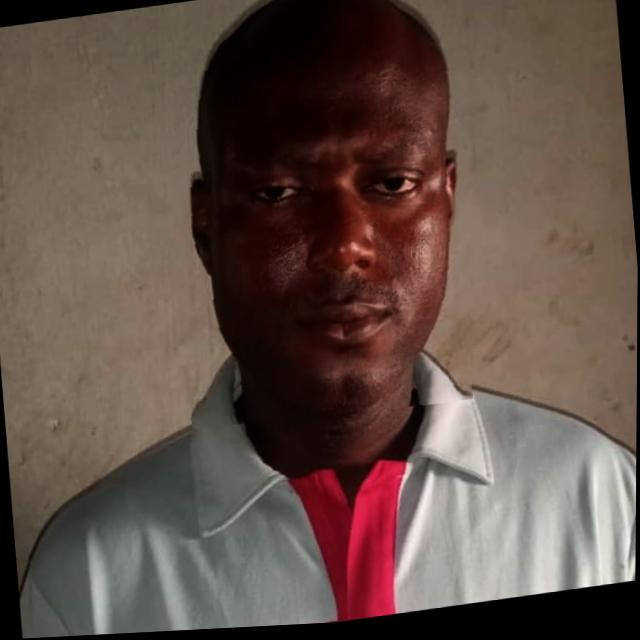sad: (157, 0, 485, 438)
